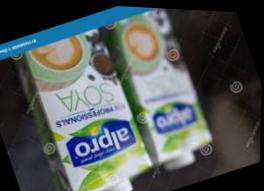cardboard: (0, 26, 149, 190), (94, 10, 211, 174)
